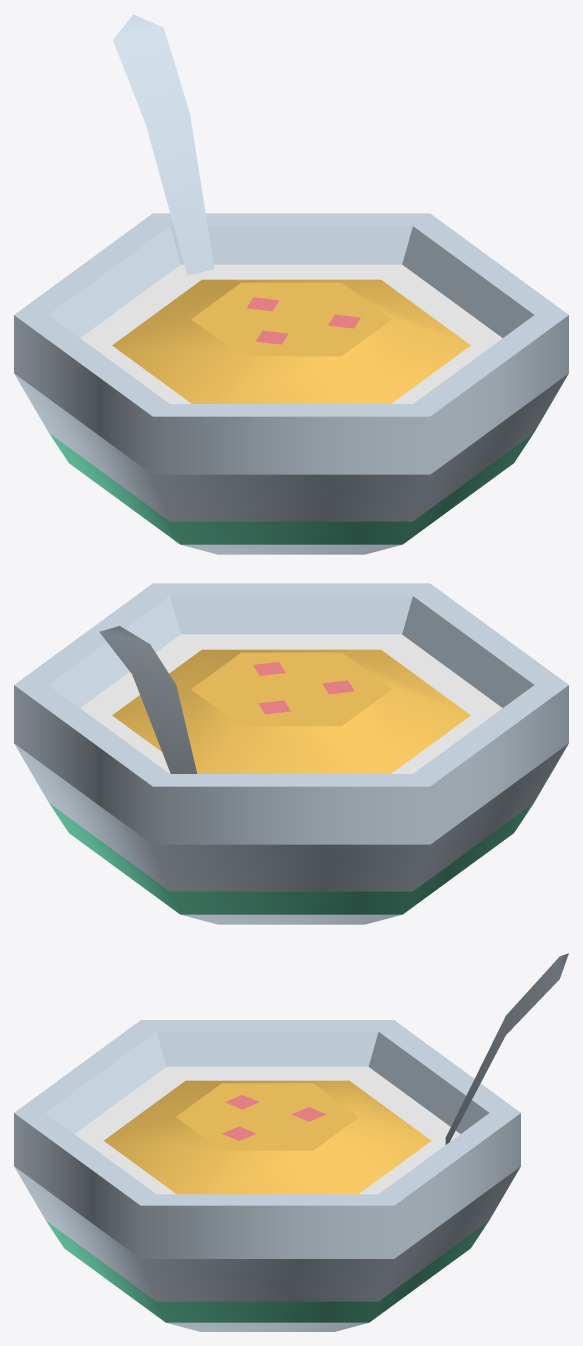
The model's file is bowlCereal.obj.
3 views of the same model, one above another, from view 1: azimuth 30°, elevation 25°; view 2: azimuth 150°, elevation 25°; view 3: azimuth 270°, elevation 25° (orthographic). The views are drawn at different scales.
Parts seen in each view (by area): view 1: bowlCereal; view 2: bowlCereal; view 3: bowlCereal.
Boxes of the visible parts, x1=… form: bowlCereal: x1=14, y1=14, x2=568, y2=554; bowlCereal: x1=14, y1=583, x2=568, y2=924; bowlCereal: x1=14, y1=953, x2=568, y2=1331.
Bounding box in the file's own units: 0.5022 × 0.4193 × 0.6346.
